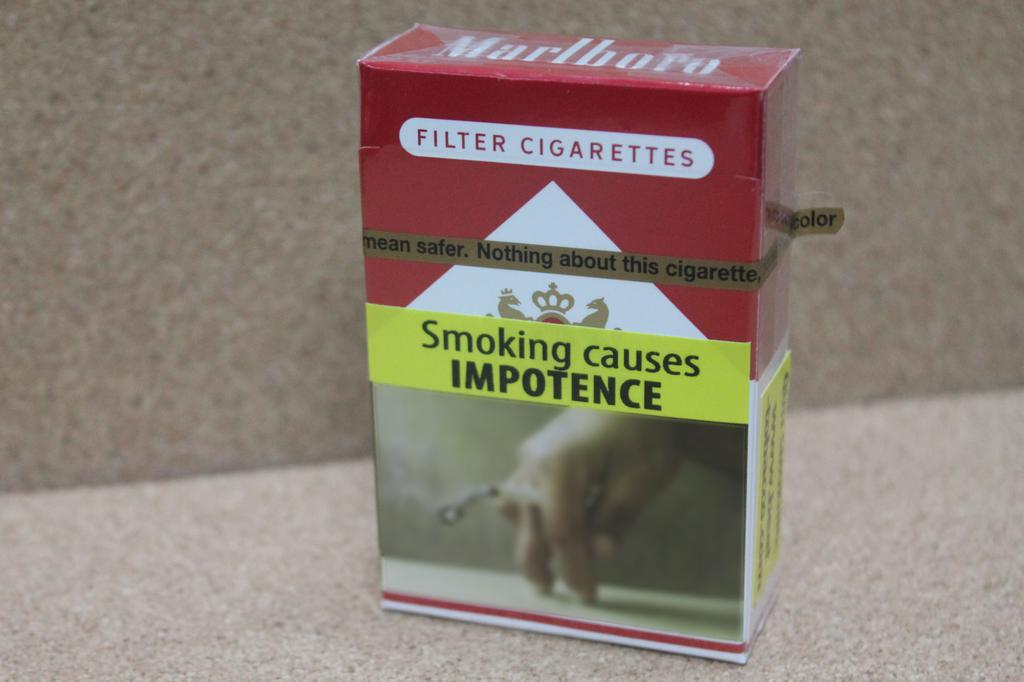marlboro_red: (378, 80, 748, 613)
